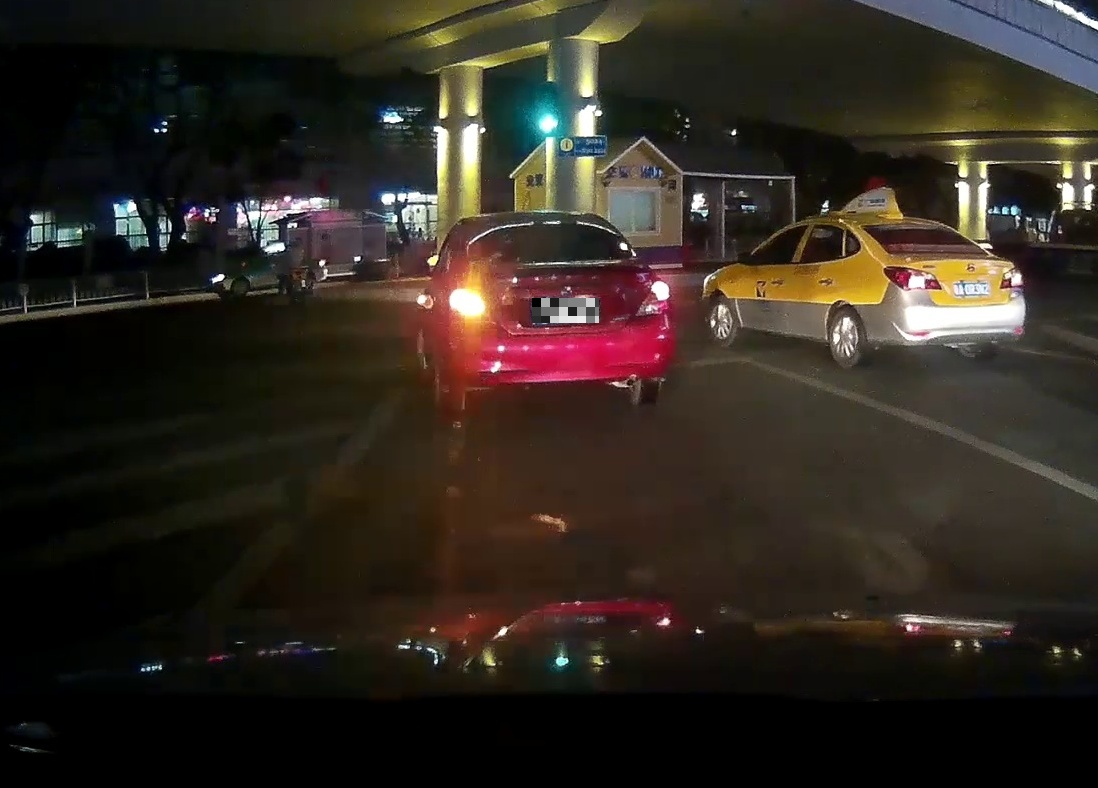L_light: (883, 265, 942, 291), (449, 289, 485, 317)
R_light: (635, 280, 670, 316), (999, 266, 1024, 289)
T_light: (534, 224, 562, 228), (934, 250, 955, 253)
night-left: (447, 211, 672, 413)
night-no: (861, 217, 1026, 368)
plate_1: (532, 298, 599, 323)
